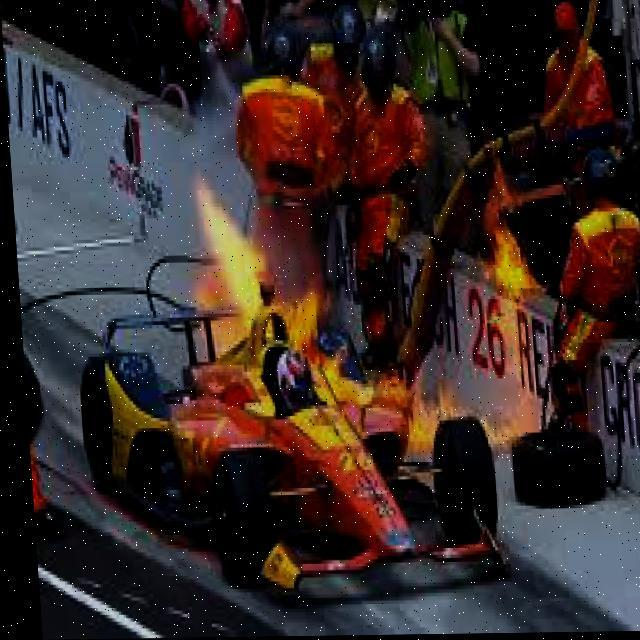Fire: (180, 172, 346, 373), (353, 362, 545, 478), (466, 176, 545, 302)
